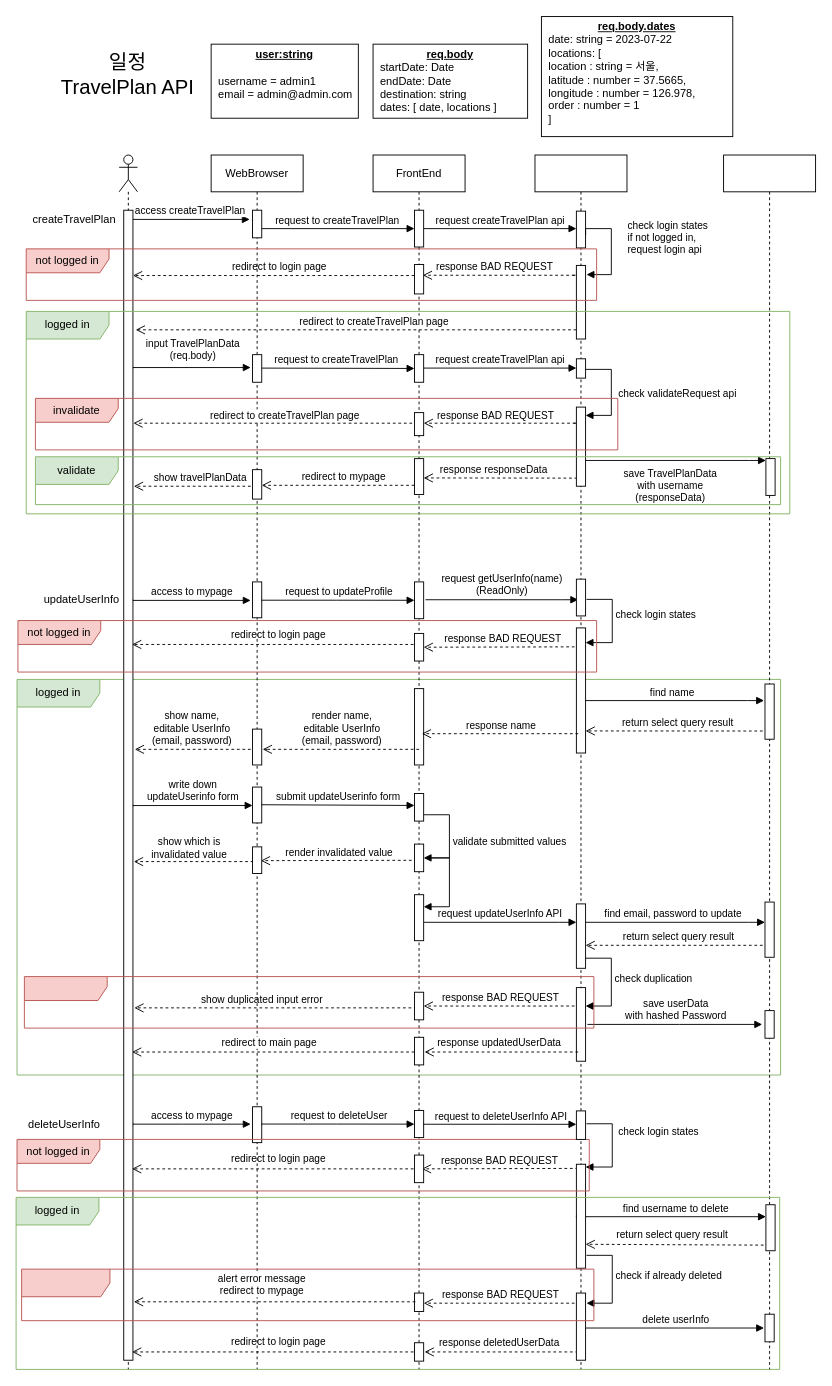
Image size: 832x1386. Some labels were removed from this diagram. Here are the shapes that lost their labels. From the top down, the centre of each, then its label:
point 580,761: BackEnd
point 769,761: DB
point 308,1002: duplicate
point 307,1294: already deleted
